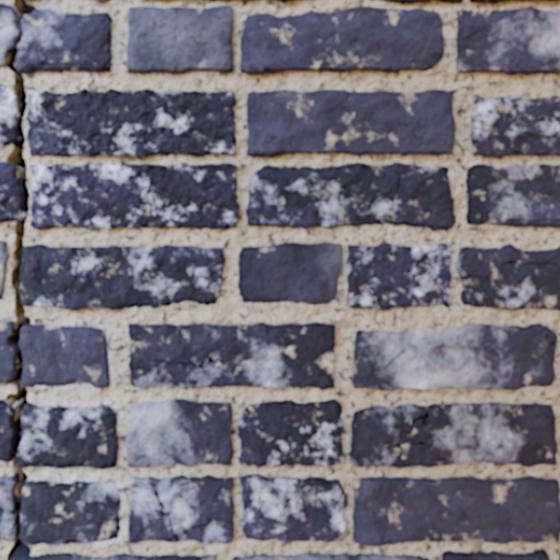brick: (354, 477, 559, 546), (28, 89, 236, 157), (246, 163, 455, 230), (247, 90, 454, 156), (31, 163, 238, 229), (129, 323, 335, 389), (241, 7, 443, 73), (354, 325, 557, 390), (21, 245, 224, 310), (351, 404, 557, 467), (241, 476, 347, 544), (129, 476, 232, 544), (128, 6, 232, 73), (127, 400, 231, 466), (239, 400, 343, 466), (457, 7, 559, 74), (347, 244, 451, 309), (456, 245, 559, 309), (239, 243, 341, 304), (467, 166, 559, 227), (471, 97, 559, 156), (0, 162, 20, 222), (14, 553, 214, 559), (235, 553, 423, 559), (0, 85, 17, 146), (443, 550, 548, 559), (0, 241, 9, 298), (386, 0, 431, 3), (470, 0, 510, 2), (437, 0, 462, 2), (279, 0, 294, 2)
broken_brick: (21, 480, 122, 546), (19, 403, 118, 469), (16, 7, 112, 74), (21, 324, 110, 390), (0, 475, 16, 542), (0, 2, 15, 68), (0, 320, 15, 384), (0, 399, 12, 463), (85, 0, 115, 3), (27, 0, 40, 1)
crack: (1, 0, 38, 559), (155, 490, 217, 541), (68, 248, 96, 301), (543, 254, 559, 265)
